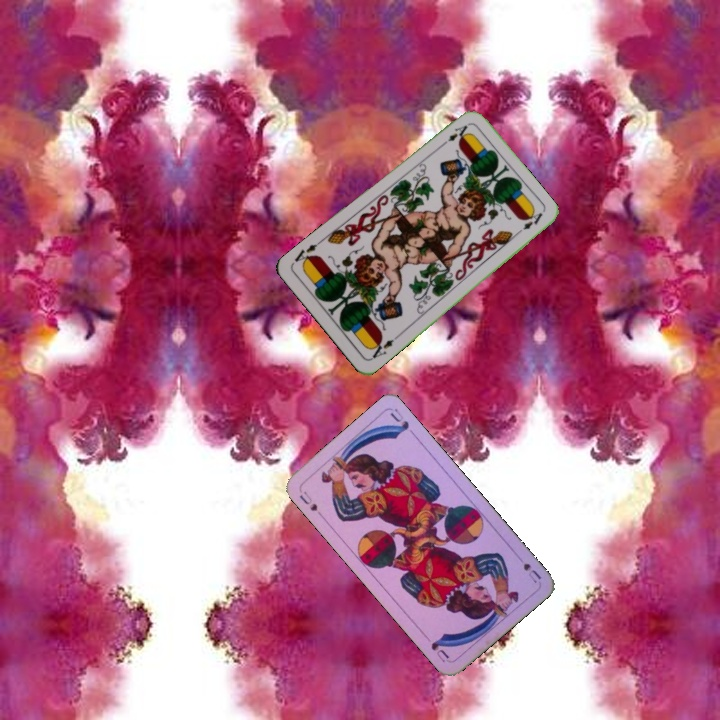EA: (366, 332, 401, 362), (444, 120, 471, 144)
SU: (511, 551, 544, 586), (295, 487, 320, 514)
